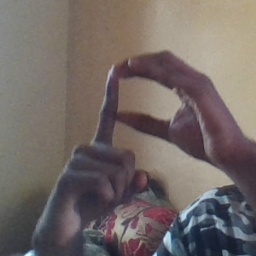P: (57, 40, 229, 211)
